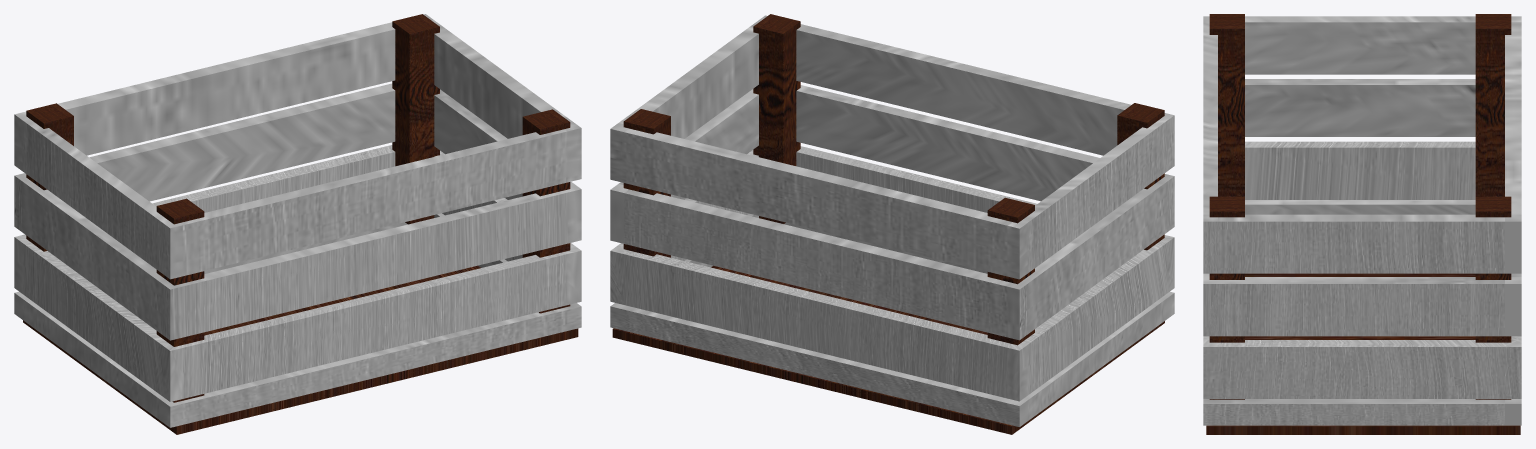
Rendered from SM_Prop_PalletCrate_01.fbx.
The picture shows the model from 3 angles, left to right: view 1: azimuth 30°, elevation 25°; view 2: azimuth 150°, elevation 25°; view 3: azimuth 270°, elevation 25°; orthographic projection. The views are drawn at different scales.
Visible parts, largest first — view 1: Cube, Cube.001, Plane, Cube.003, Cube.004, Cube.002; view 2: Cube, Cube.003, Plane, Cube.001, Cube.002, Cube.004; view 3: Cube, Cube.002, Cube.004, Plane, Cube.001, Cube.003.
Part boxes in pixels (left/top/right/bottom): Cube: left=14, top=14, right=581, bottom=427; Cube.001: left=392, top=14, right=439, bottom=224; Plane: left=23, top=265, right=578, bottom=434; Cube.003: left=522, top=109, right=570, bottom=313; Cube.004: left=156, top=198, right=204, bottom=402; Cube.002: left=26, top=103, right=73, bottom=251; Cube: left=610, top=15, right=1174, bottom=426; Cube.003: left=753, top=14, right=800, bottom=223; Plane: left=612, top=265, right=1164, bottom=434; Cube.001: left=623, top=109, right=670, bottom=257; Cube.002: left=987, top=197, right=1034, bottom=345; Cube.004: left=1117, top=103, right=1164, bottom=250; Cube: left=1203, top=16, right=1521, bottom=425; Cube.002: left=1475, top=14, right=1511, bottom=196; Cube.004: left=1209, top=14, right=1244, bottom=196; Plane: left=1206, top=273, right=1520, bottom=434; Cube.001: left=1475, top=196, right=1511, bottom=399; Cube.003: left=1209, top=196, right=1244, bottom=399.
Bounding box in the file's own units: 78.6 × 39.32 × 51.55.
